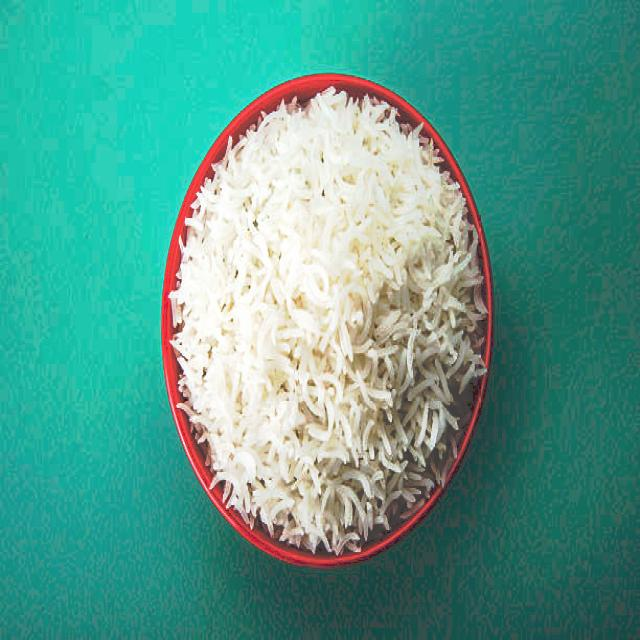rice: (166, 86, 488, 557)
